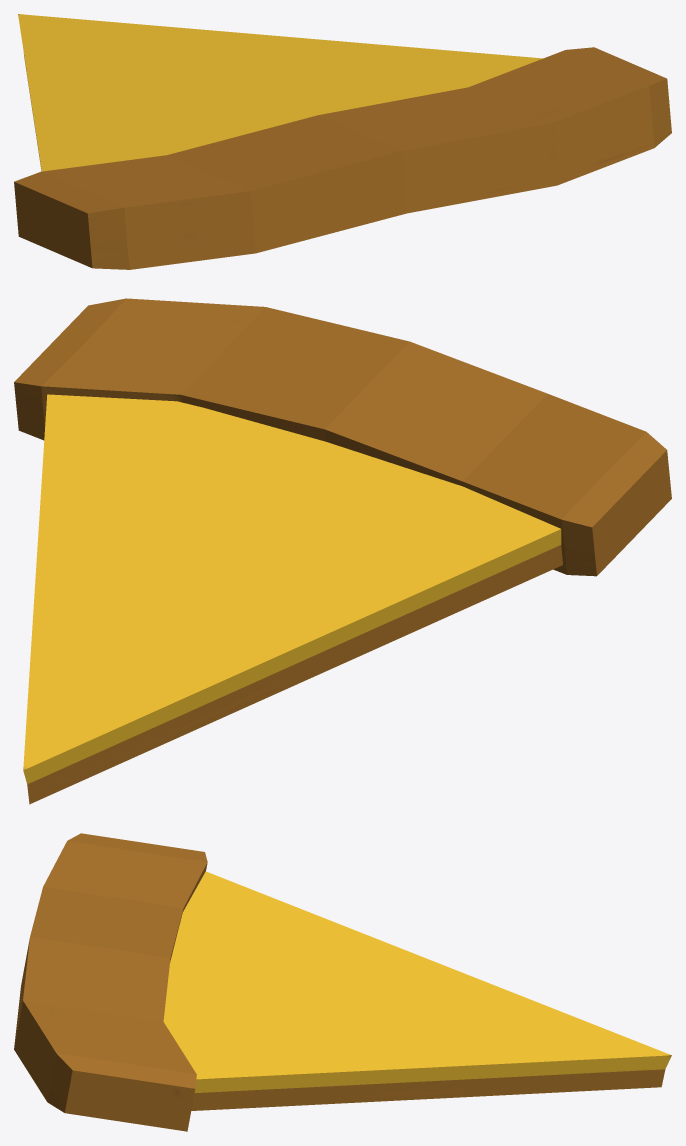
Rendered from pizza.fbx.
The picture shows the model from 3 angles, top to bottom: view 1: azimuth 30°, elevation 25°; view 2: azimuth 150°, elevation 25°; view 3: azimuth 270°, elevation 25°; orthographic projection. The views are drawn at different scales.
Visible parts, largest first — view 1: pizza; view 2: pizza; view 3: pizza.
Part boxes in pixels (box(x1,y1,x2,y2)): pizza: box(14, 14, 671, 269); pizza: box(14, 298, 671, 804); pizza: box(14, 833, 671, 1131).
Bounding box in the file's own units: 57.62 × 17.25 × 68.01.
Materials: 1 (1 with a texture image).
